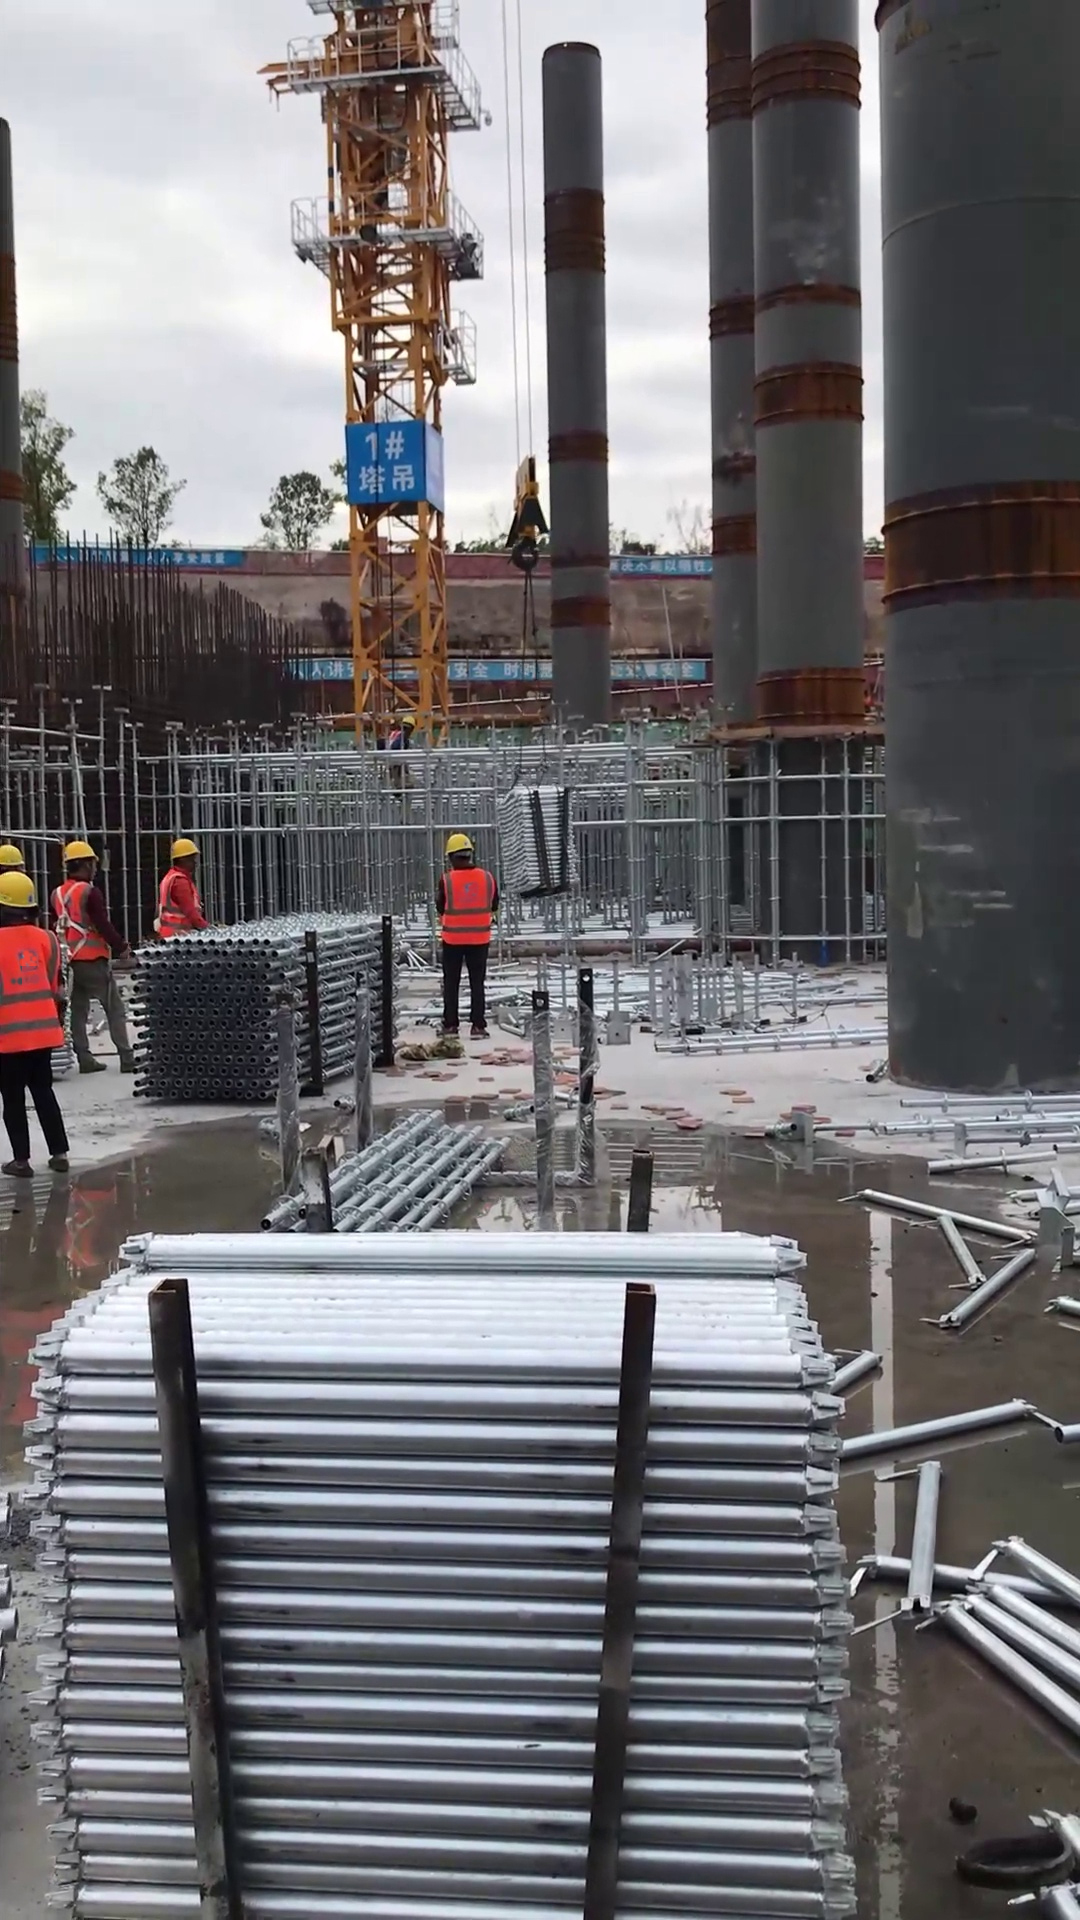helmet: (1, 866, 43, 915), (55, 832, 97, 876), (439, 826, 480, 864), (161, 835, 205, 863)
hook: (495, 448, 561, 577)
person: (1, 863, 80, 1182), (50, 825, 146, 1083), (432, 828, 514, 1049), (147, 824, 217, 947)
scaffold: (20, 1208, 876, 1920), (137, 889, 404, 1117)
slogan: (84, 543, 244, 574), (444, 651, 561, 684), (609, 652, 715, 683), (608, 552, 719, 578)
vest: (1, 914, 74, 1065), (50, 878, 112, 967), (437, 865, 500, 949), (155, 864, 207, 944)
